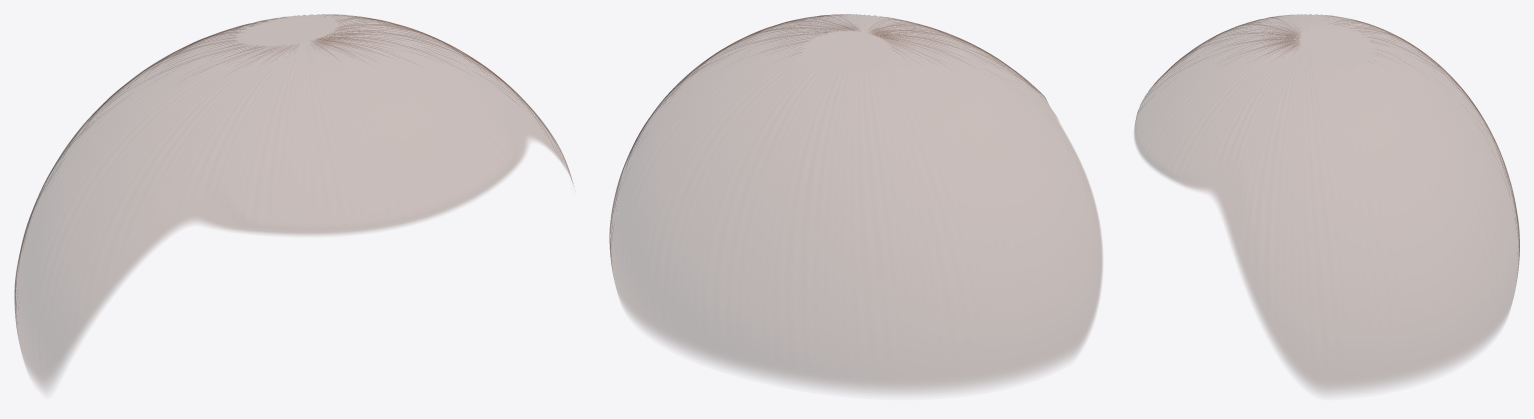
Rendered from Highlights-13162f702c8e252-hair.glb.
The picture shows the model from 3 angles, left to right: view 1: azimuth 30°, elevation 25°; view 2: azimuth 150°, elevation 25°; view 3: azimuth 270°, elevation 25°; orthographic projection. The views are drawn at different scales.
Parts seen in each view (by area): view 1: 226 hair / Hair252 / buzz edge.001; view 2: 226 hair / Hair252 / buzz edge.001; view 3: 226 hair / Hair252 / buzz edge.001.
Part boxes in pixels (x1,y1,x2,y2): 226 hair / Hair252 / buzz edge.001: [14, 14, 573, 389]; 226 hair / Hair252 / buzz edge.001: [609, 14, 1102, 392]; 226 hair / Hair252 / buzz edge.001: [1134, 14, 1519, 392].
Size of the model in its own units: 0.9886 by 0.5747 by 0.761.
1 material, 1 textured.
